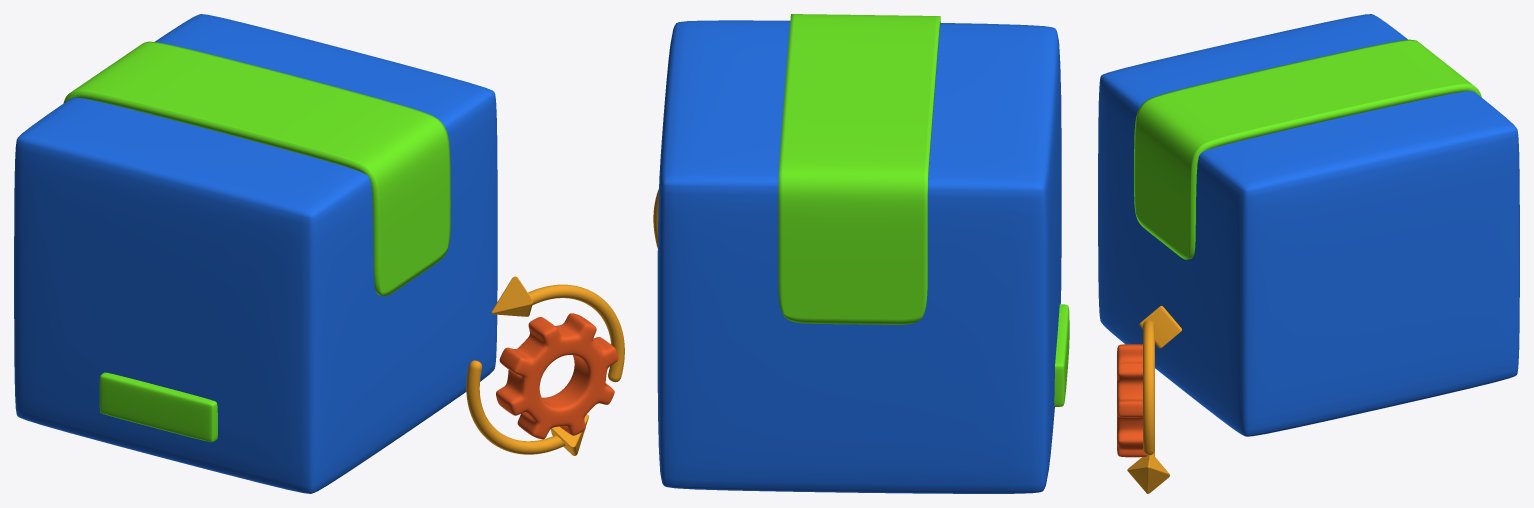
Rendered from product-lifecycle-3d-animated-icon-1256207824282.glb.
3 renders of one model, left to right at view 1: azimuth 30°, elevation 25°; view 2: azimuth 150°, elevation 25°; view 3: azimuth 270°, elevation 25°, orthographic. The views are drawn at different scales.
Parts seen in each view (by area): view 1: box, flap top, gear, label, line, arrow; view 2: box, flap top, label; view 3: box, flap top, gear, arrow, line.
Part boxes in pixels (x1,y1,x2,y2): box: [14, 14, 497, 493]; flap top: [63, 41, 450, 296]; gear: [496, 313, 618, 439]; label: [99, 372, 217, 442]; line: [466, 284, 624, 454]; arrow: [491, 276, 588, 455]; box: [657, 20, 1061, 493]; flap top: [778, 14, 940, 324]; label: [1054, 304, 1069, 406]; box: [1098, 14, 1519, 436]; flap top: [1134, 39, 1481, 259]; gear: [1117, 344, 1147, 457]; arrow: [1127, 306, 1181, 493]; line: [1143, 320, 1154, 456].
Bounding box in the file's own units: 3.16 × 2.16 × 2.69.
